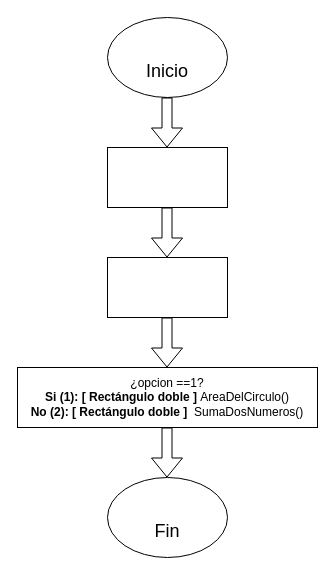
Some shapes in this 335 by 575 pixel diagram are drawn without their labels. Here are the shapes that lost their labels. From the top down, the centre of each, then its label:
point (167, 177): Escribir "1. Área círculo / 2. Sumar / Elige:"
point (167, 287): Leer opción
